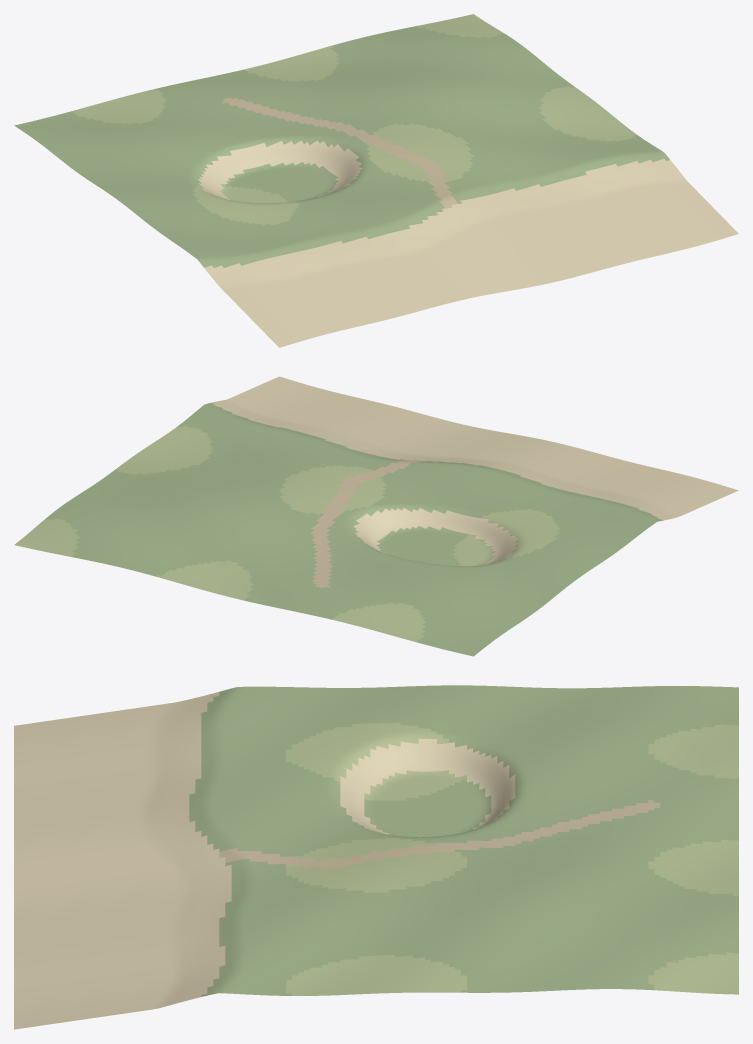
Rendered from SM_Terrain.fbx.
3 renders of one model, top to bottom at view 1: azimuth 30°, elevation 25°; view 2: azimuth 150°, elevation 25°; view 3: azimuth 270°, elevation 25°, orthographic. The views are drawn at different scales.
Visible parts, largest first — view 1: SM_Terrain; view 2: SM_Terrain; view 3: SM_Terrain.
Part boxes in pixels (x1,y1,x2,y2): SM_Terrain: [14, 14, 738, 347]; SM_Terrain: [14, 376, 738, 656]; SM_Terrain: [14, 685, 738, 1029].
Bounding box in the file's own units: 10000 × 10000 × 817.
